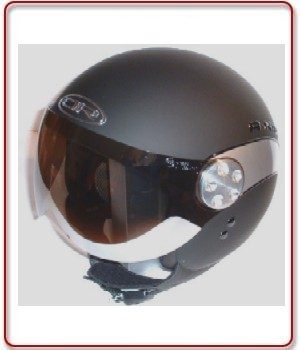helmet: (34, 62, 285, 294)
